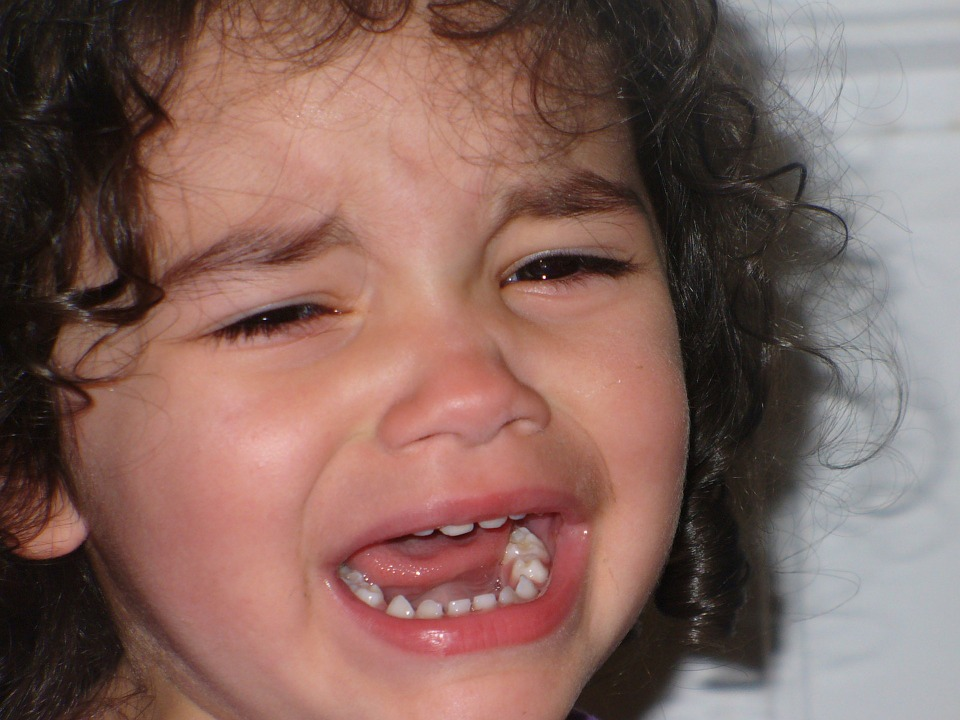sad: (30, 36, 727, 714)
